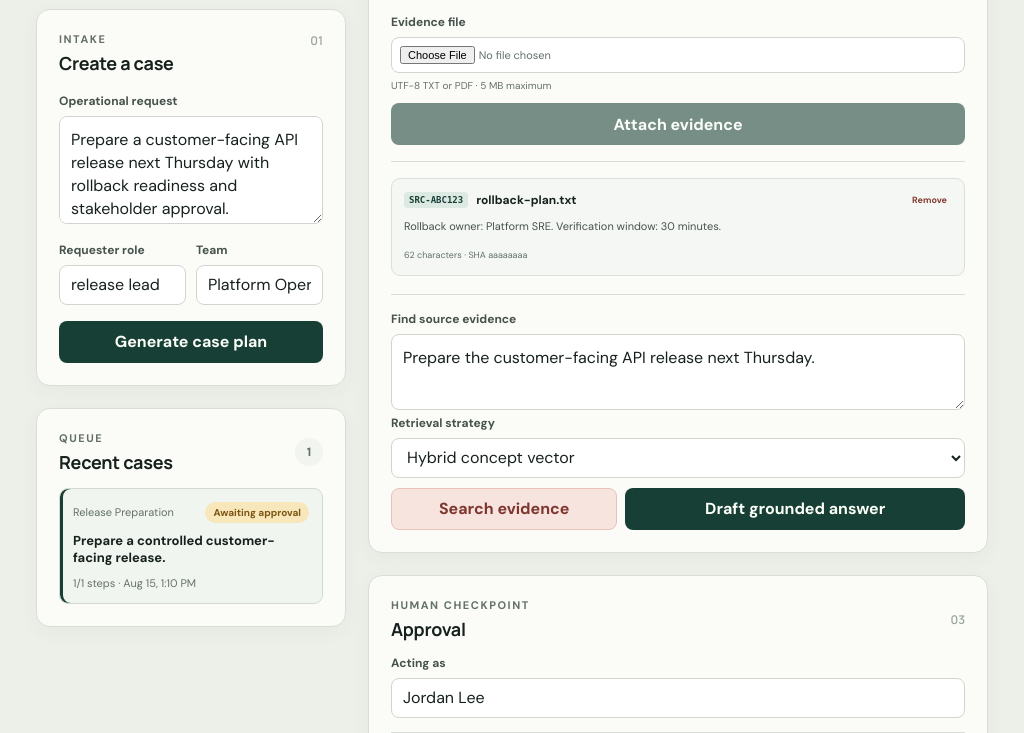
Workflow Copilot › explains hybrid abstention for unsupported compound intent
This screenshot has width=1024, height=733.
(page scrolled)
Replace the text in the text box labelled "Find source evidence" with "Who authorized the emergency rollback?" at point(678, 372), box [391, 334, 965, 410]
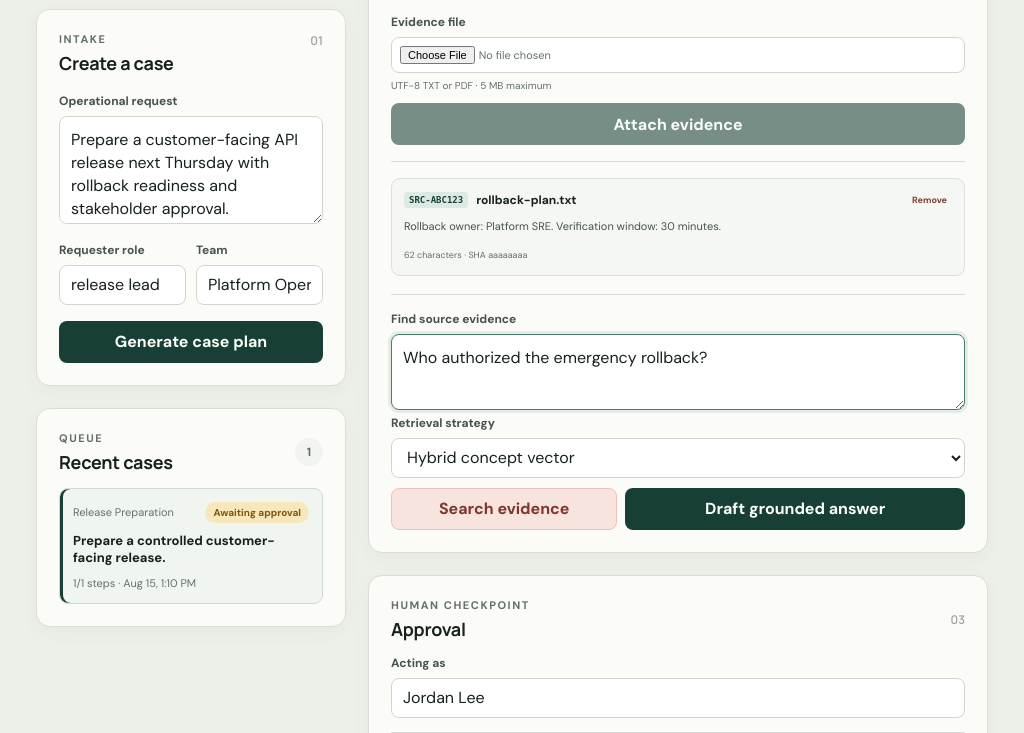
Click the button "Search evidence" at point(504, 509), box [391, 488, 617, 530]
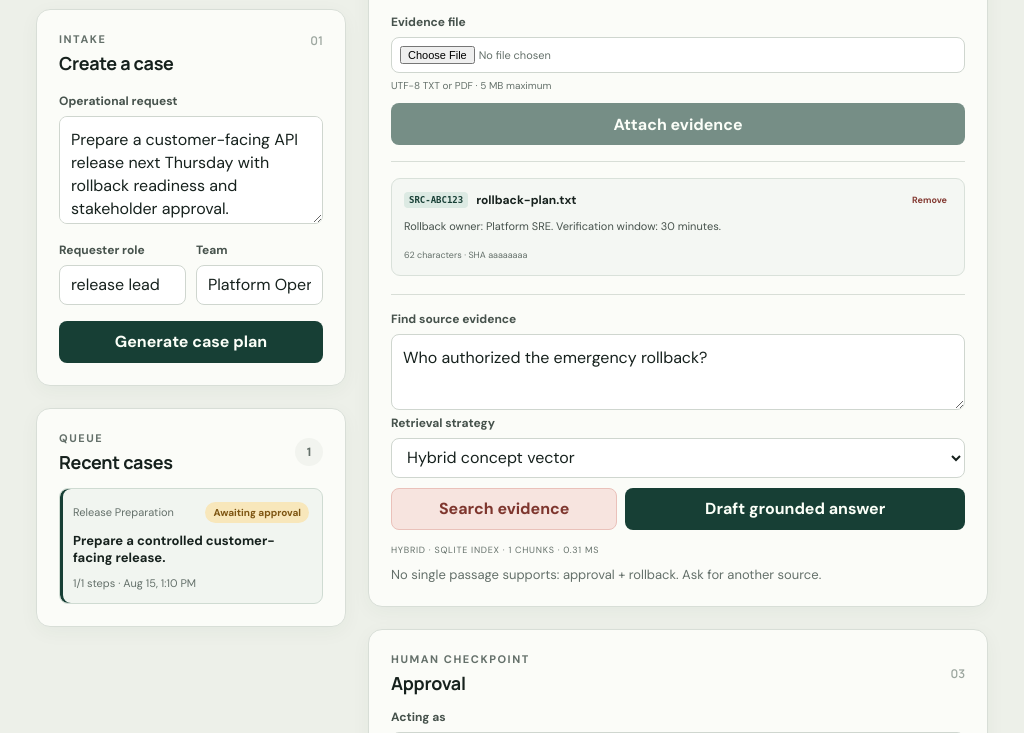
Check: the text "No single passage supports: approval + rollback. Ask for another source." is shown, box [391, 566, 821, 583]
